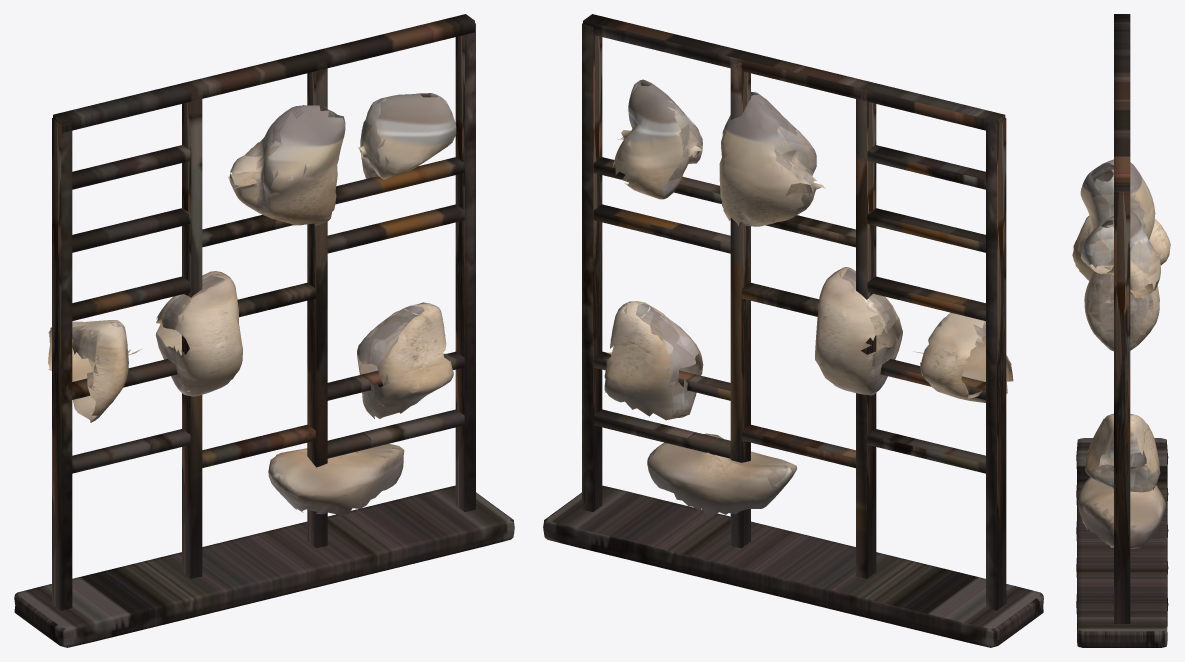
Rendered from hy3d-esc-037.glb.
The picture shows the model from 3 angles, left to right: view 1: azimuth 30°, elevation 25°; view 2: azimuth 150°, elevation 25°; view 3: azimuth 270°, elevation 25°; orthographic projection. The views are drawn at different scales.
Visible parts, largest first — view 1: world; view 2: world; view 3: world.
Boxes of the visible parts, x1,y1,x2,y2 form: world: [14, 14, 514, 647]; world: [543, 14, 1043, 647]; world: [1072, 14, 1170, 647].
Size of the model in its own units: 1.11 by 1.18 by 0.234.
Materials: 1 (1 with a texture image).
